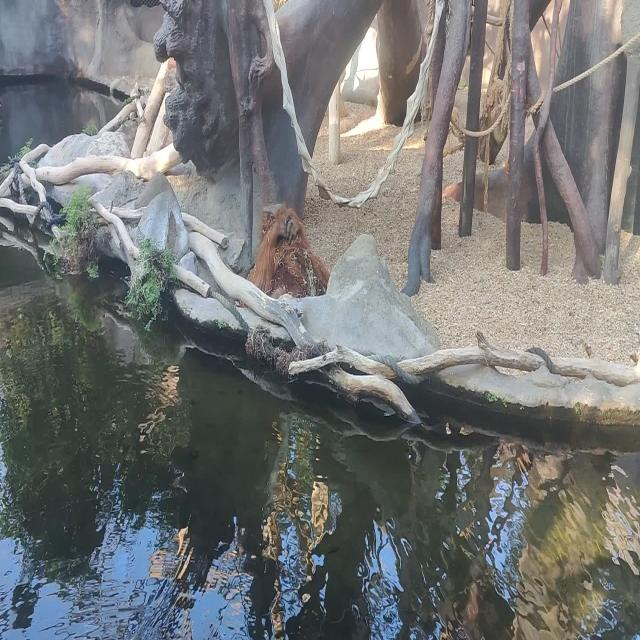monkey: (248, 203, 330, 299)
